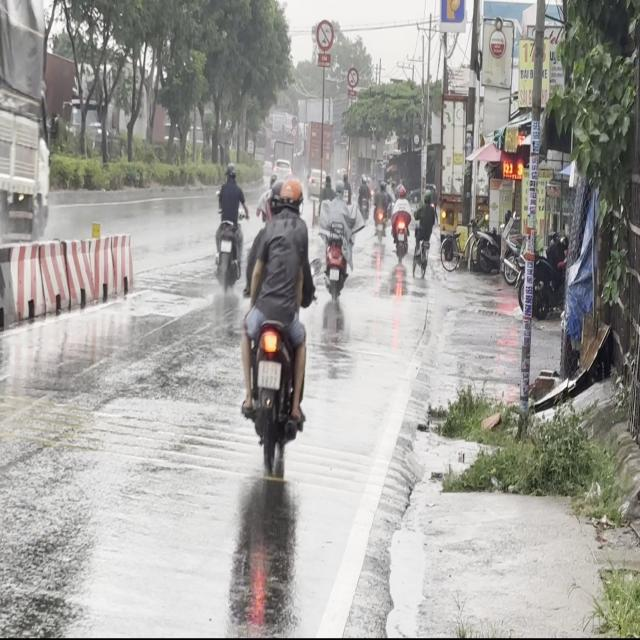helmet: (279, 174, 302, 213), (267, 177, 283, 215)
licenseplate: (237, 171, 314, 468)
nohelmet: (258, 360, 280, 388)
